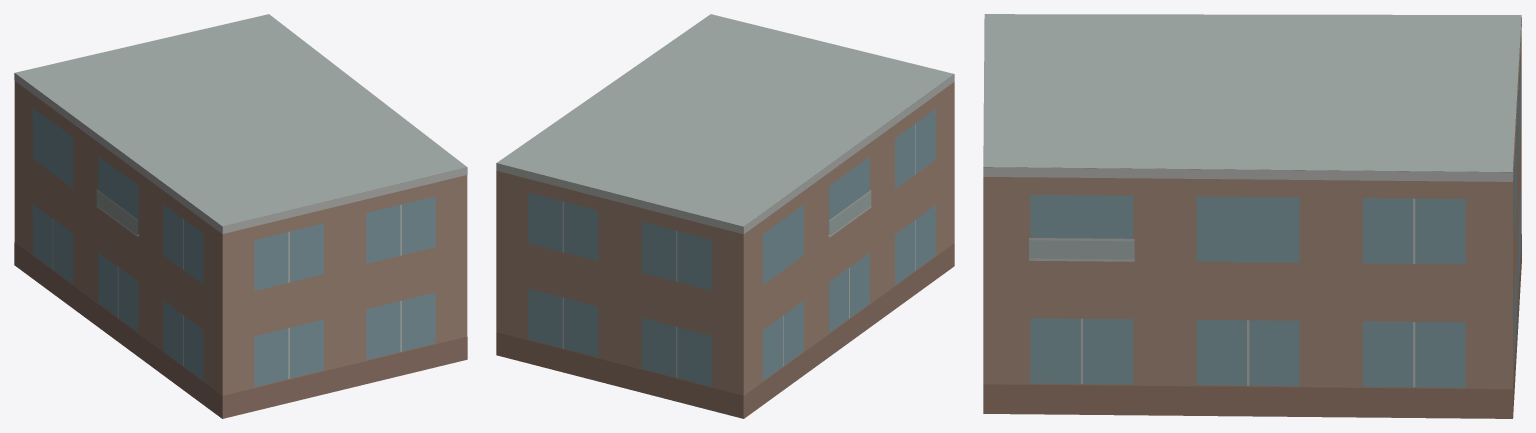
The model's file is survey-upis-32576919.glb.
The picture shows the model from 3 angles, left to right: view 1: azimuth 30°, elevation 25°; view 2: azimuth 150°, elevation 25°; view 3: azimuth 270°, elevation 25°; orthographic projection. The views are drawn at different scales.
Parts seen in each view (by area): view 1: survey-upis-32576919.tmp; view 2: survey-upis-32576919.tmp; view 3: survey-upis-32576919.tmp.
Part boxes in pixels (left/top/right/bottom): survey-upis-32576919.tmp: left=14, top=14, right=467, bottom=418; survey-upis-32576919.tmp: left=496, top=14, right=954, bottom=418; survey-upis-32576919.tmp: left=983, top=14, right=1521, bottom=418.
Size of the model in its own units: 8.41 by 6.1 by 12.07.
